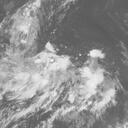cyclone: (27, 43, 90, 103)
